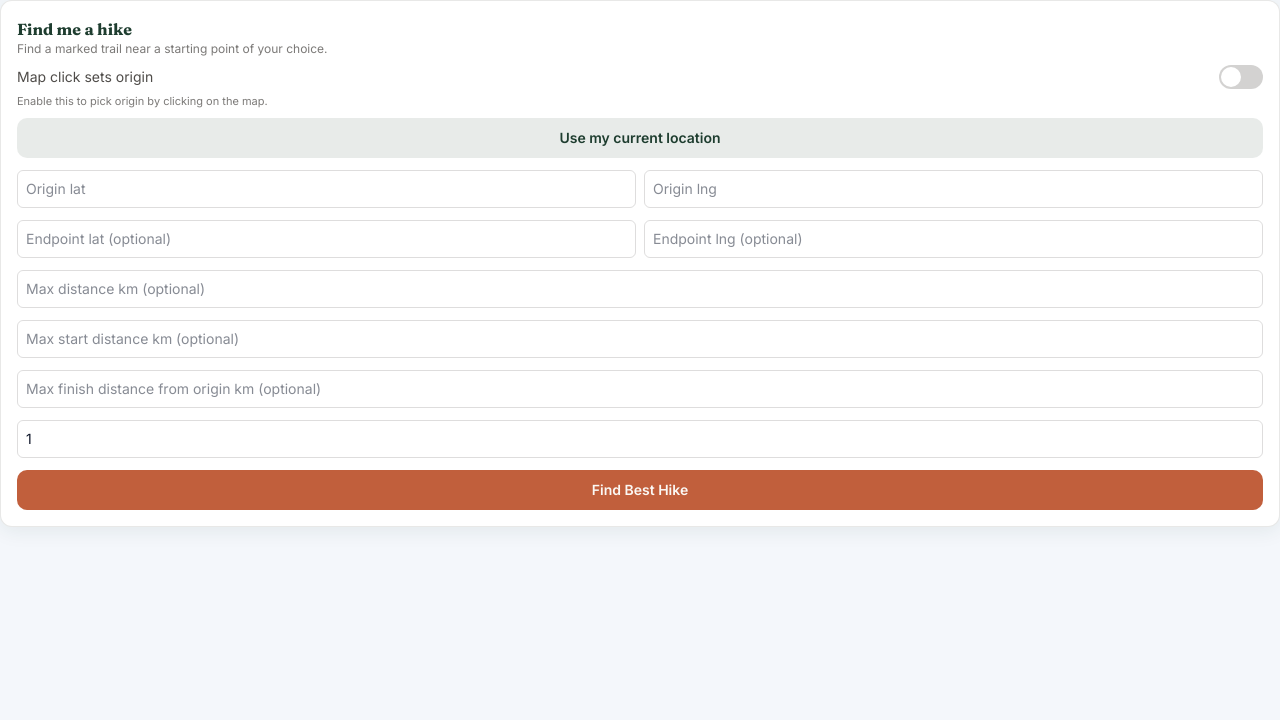
it: HikeSearchPanel validation › fills origin coordinates from device location
This screenshot has width=1280, height=720.
What coordinates should you click on to do the following:
click the button "Use my current location"
I would click on:
 (640, 138)
Its box is [17,118,1263,158].
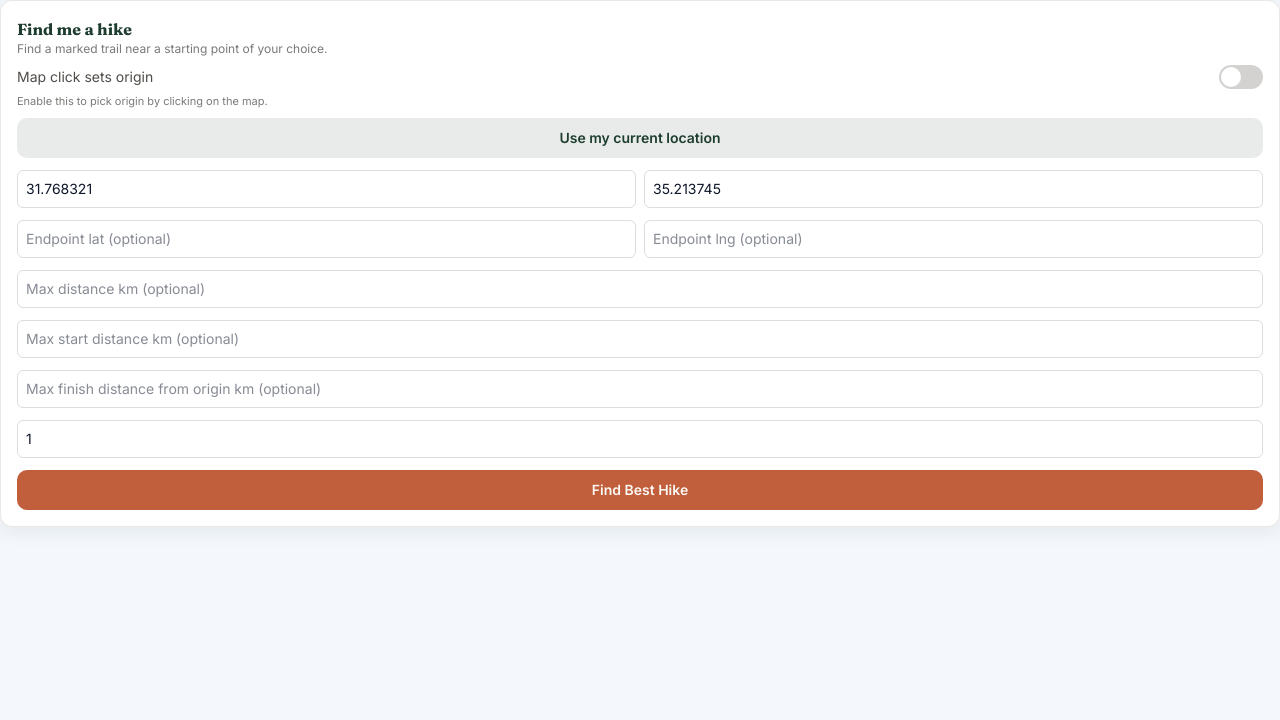
Expected: the 1st field with placeholder "Origin lat" holds "31.768321", [17,170,636,208]
Expected: the 2nd field with placeholder "Origin lng" holds "35.213745", [644,170,1263,208]
